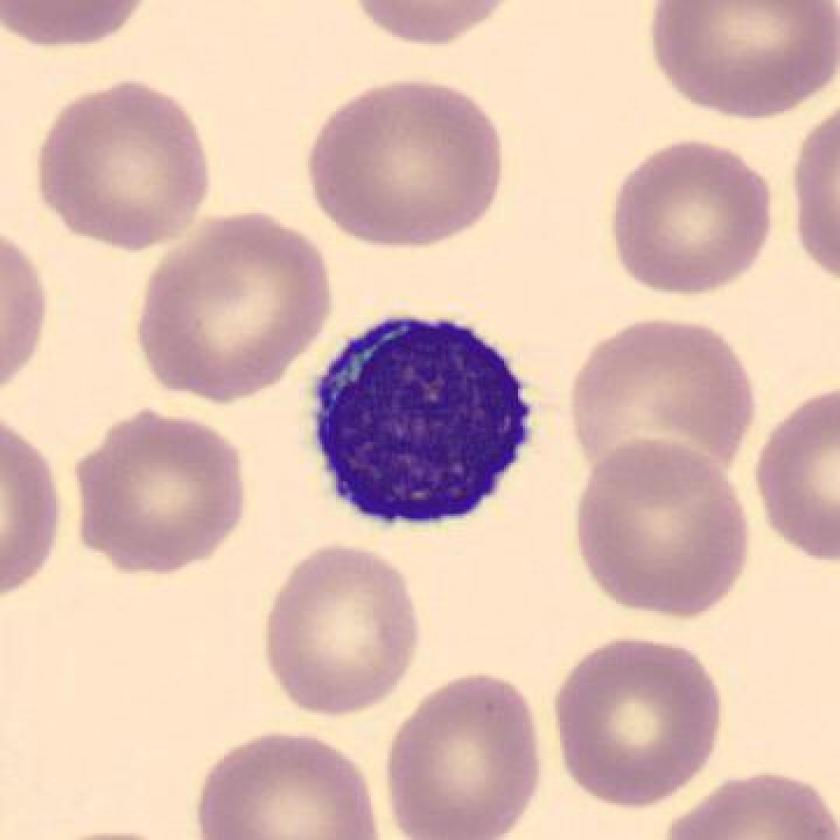lymphocyte: (305, 302, 550, 542)
